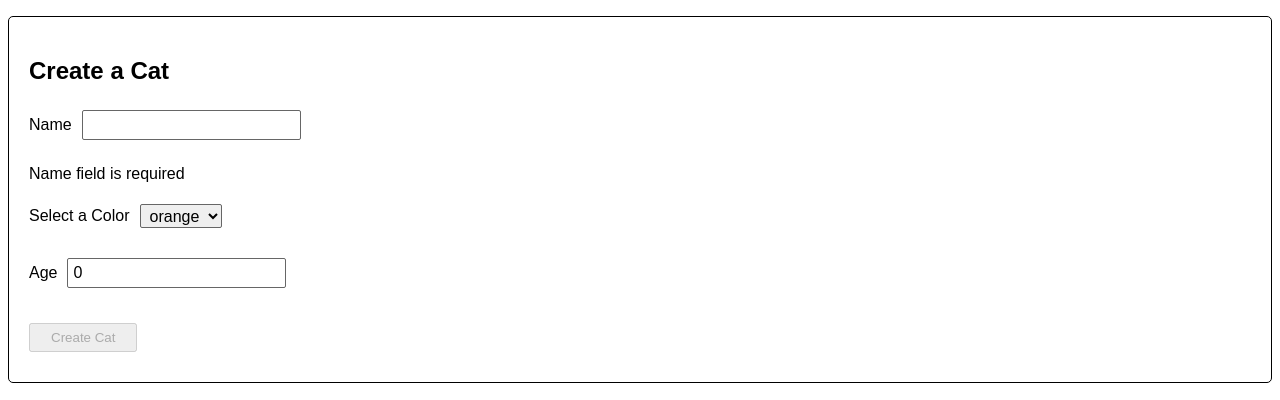
(14 points) CatForm › (1 point) should disable the submit button (only) when there are errors
Expected: the button "Create Cat" is disabled, left=29, top=323, right=138, bottom=352
Type "Chloe" into the field labelled "Name" at (191, 125), box left=82, top=110, right=301, bottom=140
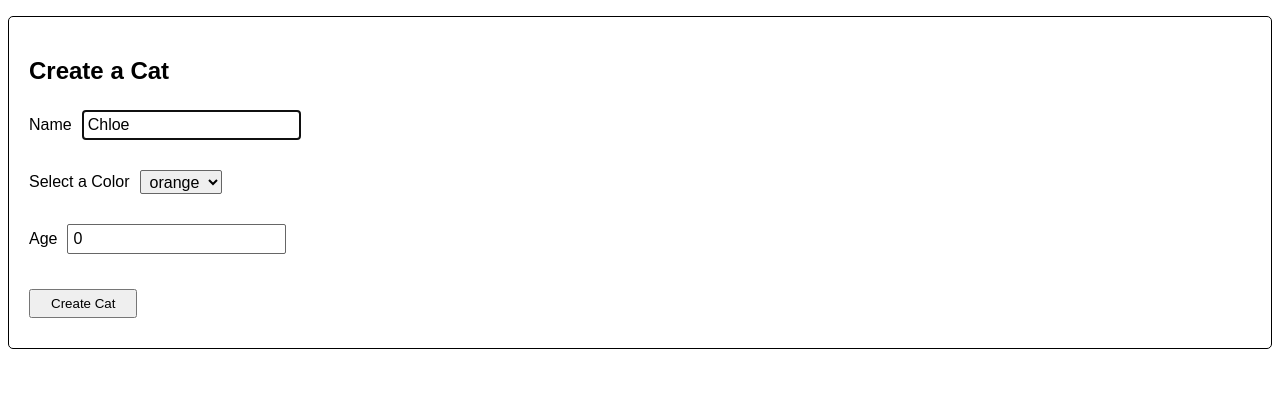
Now the button "Create Cat" is enabled, box left=29, top=289, right=138, bottom=318
